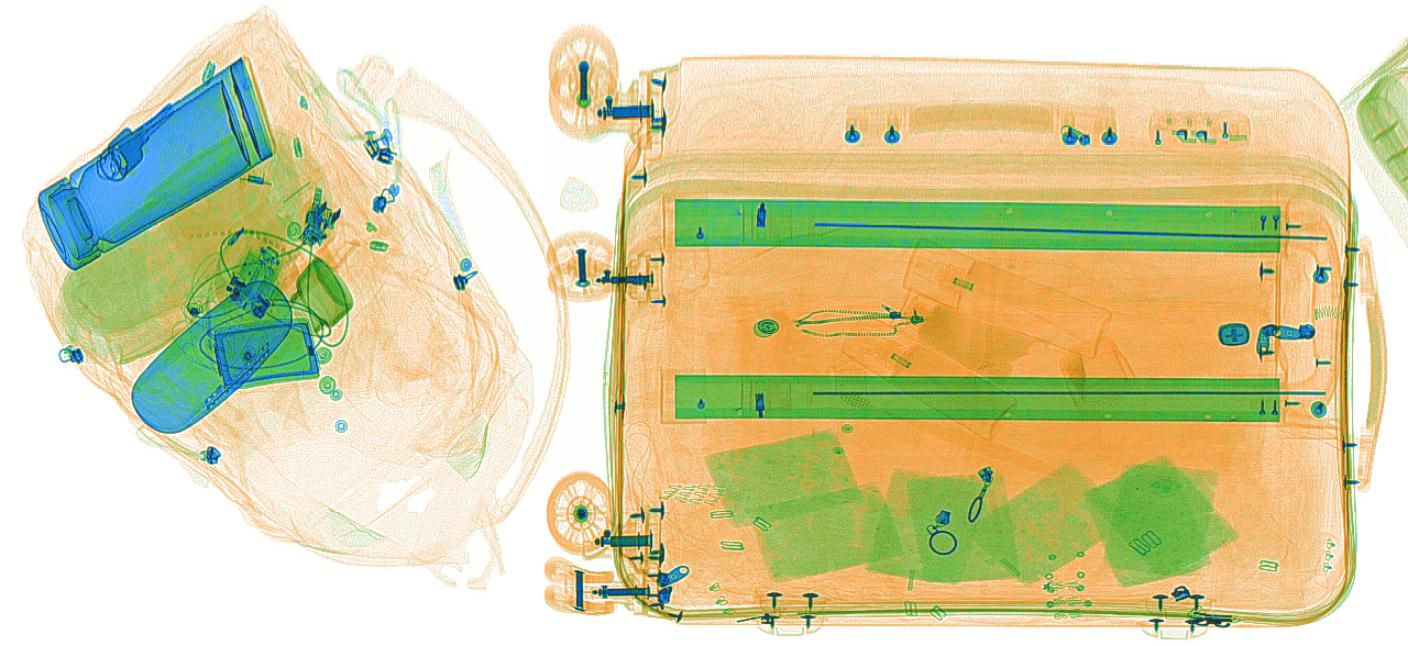plasticBottleWithaNozzle: (902, 238, 1112, 357), (837, 314, 1018, 441)
